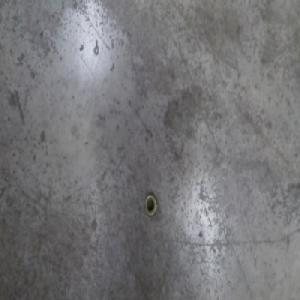Nut: (143, 192, 158, 219)
